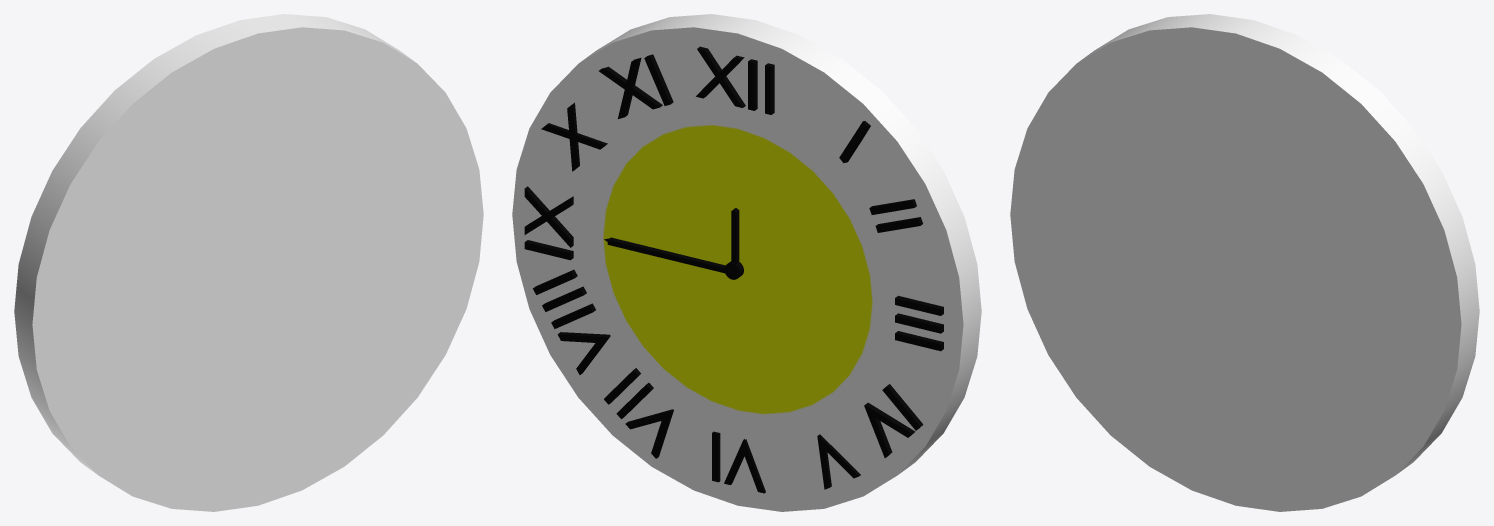
The model's file is zegar_arrows.fbx.
3 views of the same model, side by side, from view 1: azimuth 30°, elevation 25°; view 2: azimuth 150°, elevation 25°; view 3: azimuth 330°, elevation 25° (orthographic).
Parts seen in each view (by area): view 1: Zegar__1_; view 2: Zegar__1_, Zegar__1_.001; view 3: Zegar__1_.
Part boxes in pixels (bbox=[...]): Zegar__1_: bbox=[14, 14, 483, 511]; Zegar__1_: bbox=[512, 14, 981, 511]; Zegar__1_.001: bbox=[604, 237, 725, 273]; Zegar__1_: bbox=[1010, 14, 1479, 511].
Bounding box in the file's own units: 0.04 × 0.4496 × 0.4496.
1 material, 1 textured.
